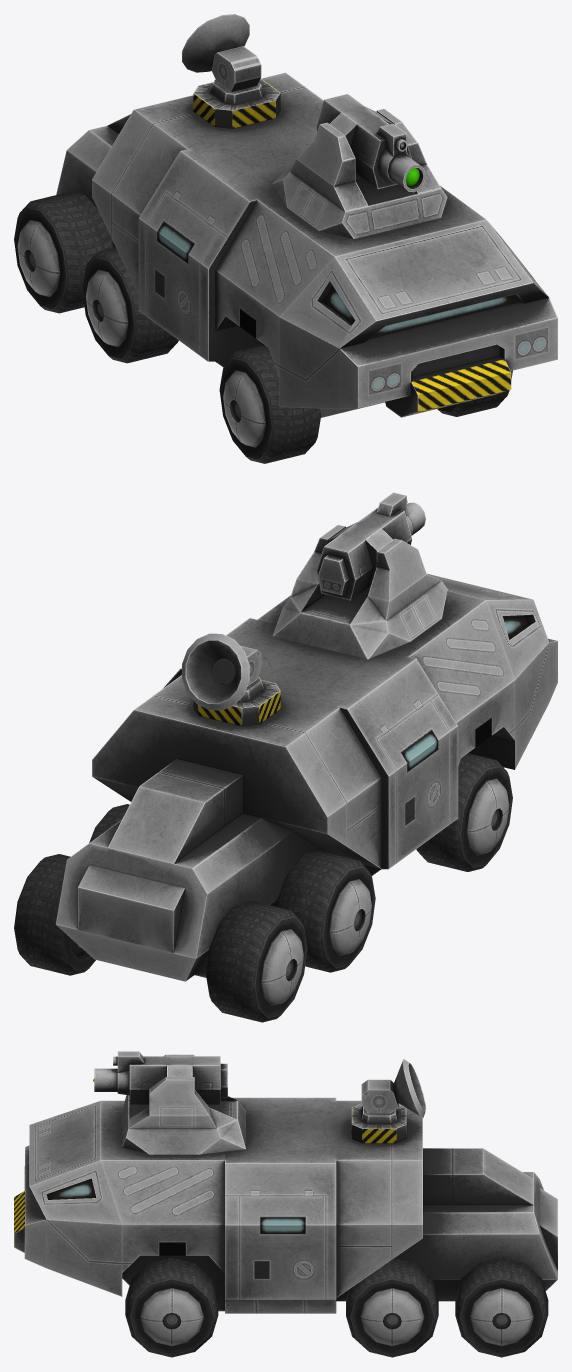
Rendered from Skulker.FBX.
3 renders of one model, top to bottom at view 1: azimuth 30°, elevation 25°; view 2: azimuth 150°, elevation 25°; view 3: azimuth 270°, elevation 25°, orthographic. The views are drawn at different scales.
Visible parts, largest first — view 1: body, turret, wheel6, wheel4, wheel5, mantlet, dish, wheel1; view 2: body, turret, wheel6, wheel5, wheel4, mantlet, wheel3, dish; view 3: body, turret, wheel1, wheel3, wheel2, mantlet, dish.
Boxes of the visible parts, box(x1,y1,x2,y2) form: body: box(56, 72, 557, 417); turret: box(272, 109, 447, 238); wheel6: box(14, 191, 112, 313); wheel4: box(219, 345, 320, 463); wheel5: box(82, 247, 178, 363); mantlet: box(316, 94, 425, 192); dish: box(182, 14, 261, 91); wheel1: box(437, 370, 512, 416); body: box(55, 573, 557, 981); turret: box(272, 525, 447, 659); wheel6: box(206, 901, 307, 1022); wheel5: box(276, 851, 375, 972); wheel4: box(416, 753, 512, 871); mantlet: box(316, 492, 425, 600); wheel3: box(14, 854, 95, 975); dish: box(182, 633, 261, 710); body: box(14, 1097, 557, 1313); turret: box(121, 1054, 245, 1154); wheel1: box(125, 1257, 218, 1357); wheel3: box(455, 1257, 548, 1357); wheel2: box(346, 1258, 438, 1357); mantlet: box(93, 1051, 227, 1104); dish: box(361, 1059, 426, 1117).
Size of the model in its own units: 12.24 by 14.37 by 27.46.
Materials: 1 (1 with a texture image).
